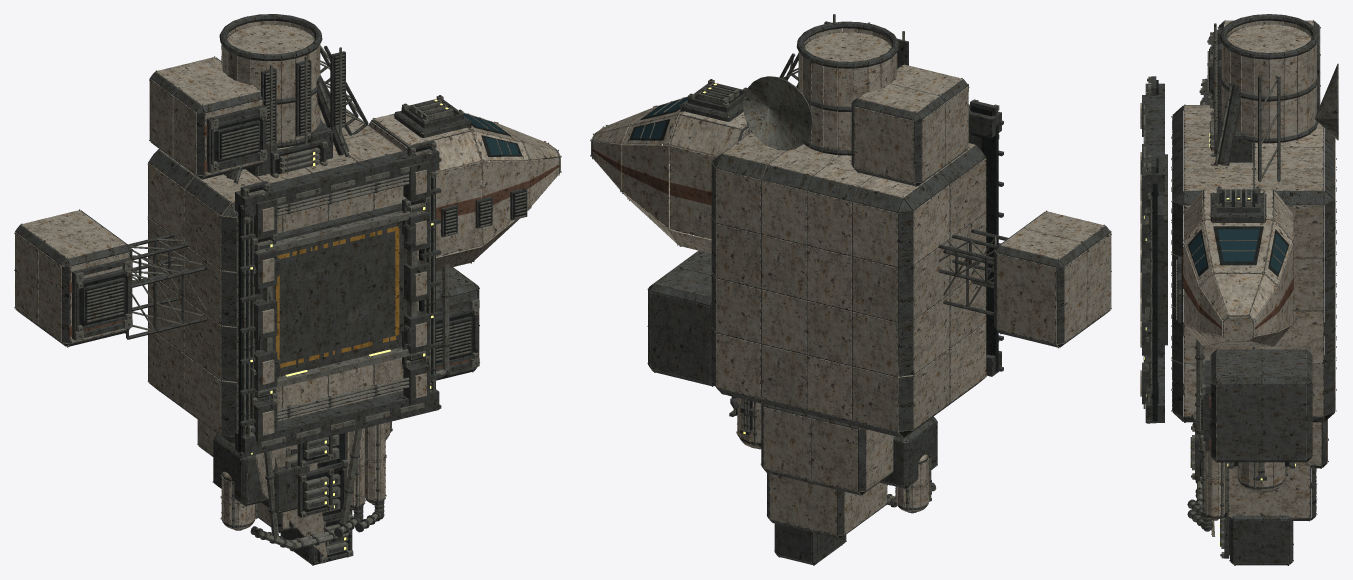
File: salvage.glb
3 renders of one model, left to right at view 1: azimuth 30°, elevation 25°; view 2: azimuth 150°, elevation 25°; view 3: azimuth 270°, elevation 25°, orthographic. The views are drawn at different scales.
Parts seen in each view (by area): view 1: static/dark-structure, static/cladding-armour-1, static/machined-alloy, static/cladding-armour-0, static/cladding-dark-structure, static/landing-grey, static/cladding-armour-2, static/recess-black, static/cladding-armour-3, static/armour-1, static/service-ochre, static/cladding-salvaged-red (+2 smaller); view 2: static/cladding-armour-1, static/cladding-armour-0, static/cladding-armour-3, static/cladding-dark-structure, static/dark-structure, static/cladding-armour-2, static/machined-alloy, static/cladding-blue-grey-3, static/recess-black, static/cladding-blue-grey-0, static/cladding-salvaged-red, static/cladding-canopy-glass; view 3: static/dark-structure, static/cladding-armour-1, static/cladding-dark-structure, static/cladding-armour-0, static/cladding-blue-grey-3, static/cladding-armour-3, static/machined-alloy, static/cladding-armour-2, static/recess-black, static/cladding-blue-grey-0, static/cladding-canopy-glass, static/landing-grey (+2 smaller).
Boxes of the visible parts, box(x1,y1,x2,y2) form: static/dark-structure: box(15, 14, 561, 565); static/cladding-armour-1: box(15, 21, 560, 559); static/machined-alloy: box(14, 21, 561, 565); static/cladding-armour-0: box(148, 20, 558, 521); static/cladding-dark-structure: box(15, 57, 479, 564); static/landing-grey: box(272, 221, 406, 376); static/cladding-armour-2: box(185, 23, 558, 525); static/recess-black: box(79, 54, 526, 557); static/cladding-armour-3: box(148, 21, 559, 525); static/armour-1: box(262, 169, 426, 435); static/service-ochre: box(276, 226, 399, 367); static/cladding-salvaged-red: box(436, 156, 559, 219); static/cladding-armour-1: box(591, 30, 1110, 537); static/cladding-armour-0: box(593, 29, 986, 506); static/cladding-armour-3: box(592, 28, 949, 506); static/cladding-dark-structure: box(648, 64, 1111, 565); static/dark-structure: box(590, 21, 1111, 565); static/cladding-armour-2: box(593, 28, 986, 508); static/machined-alloy: box(590, 14, 1111, 565); static/cladding-blue-grey-3: box(648, 251, 712, 385); static/recess-black: box(629, 92, 998, 430); static/cladding-blue-grey-0: box(776, 524, 845, 562); static/cladding-salvaged-red: box(592, 139, 711, 205); static/cladding-canopy-glass: box(632, 97, 687, 138); static/dark-structure: box(1141, 14, 1334, 565); static/cladding-armour-1: box(1172, 20, 1335, 536); static/cladding-dark-structure: box(1141, 20, 1334, 565); static/cladding-armour-0: box(1172, 21, 1335, 487); static/cladding-blue-grey-3: box(1210, 349, 1312, 458); static/cladding-armour-3: box(1184, 21, 1335, 516); static/machined-alloy: box(1140, 20, 1338, 565); static/cladding-armour-2: box(1172, 20, 1296, 515); static/recess-black: box(1152, 30, 1288, 555); static/cladding-blue-grey-0: box(1230, 518, 1293, 562); static/cladding-canopy-glass: box(1189, 229, 1287, 272); static/landing-grey: box(1163, 154, 1167, 345).
Bounding box in the file's own units: 726 × 722 × 258.
14 materials, 12 textured.
